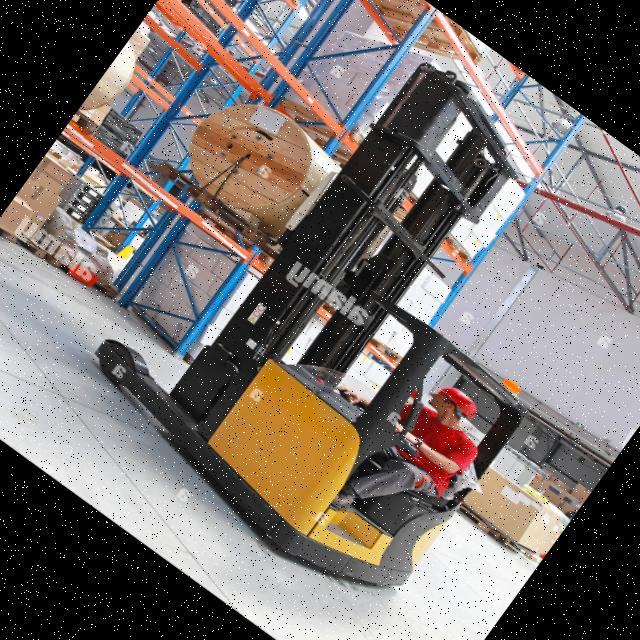Person: (318, 360, 502, 560)
